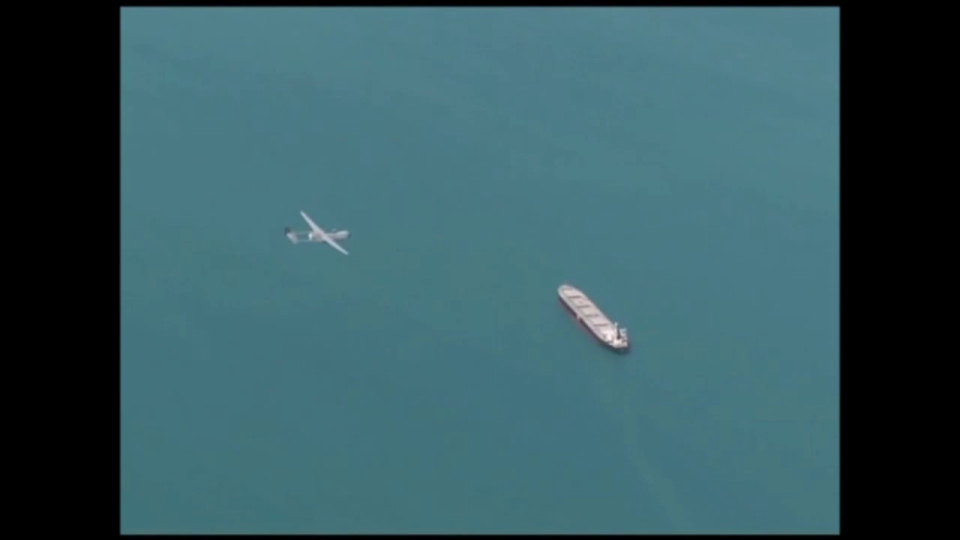military drone: (284, 209, 351, 254)
